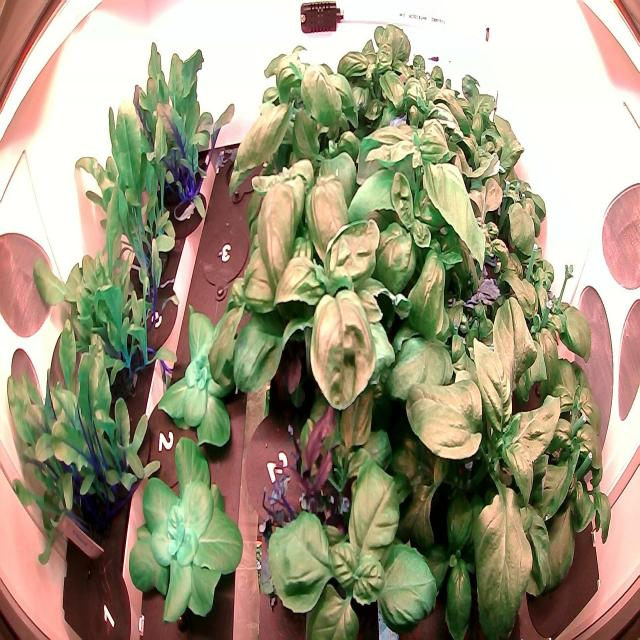empty_pod: (196, 199, 256, 304), (219, 130, 274, 209)
young: (125, 428, 253, 632), (154, 299, 256, 460)
